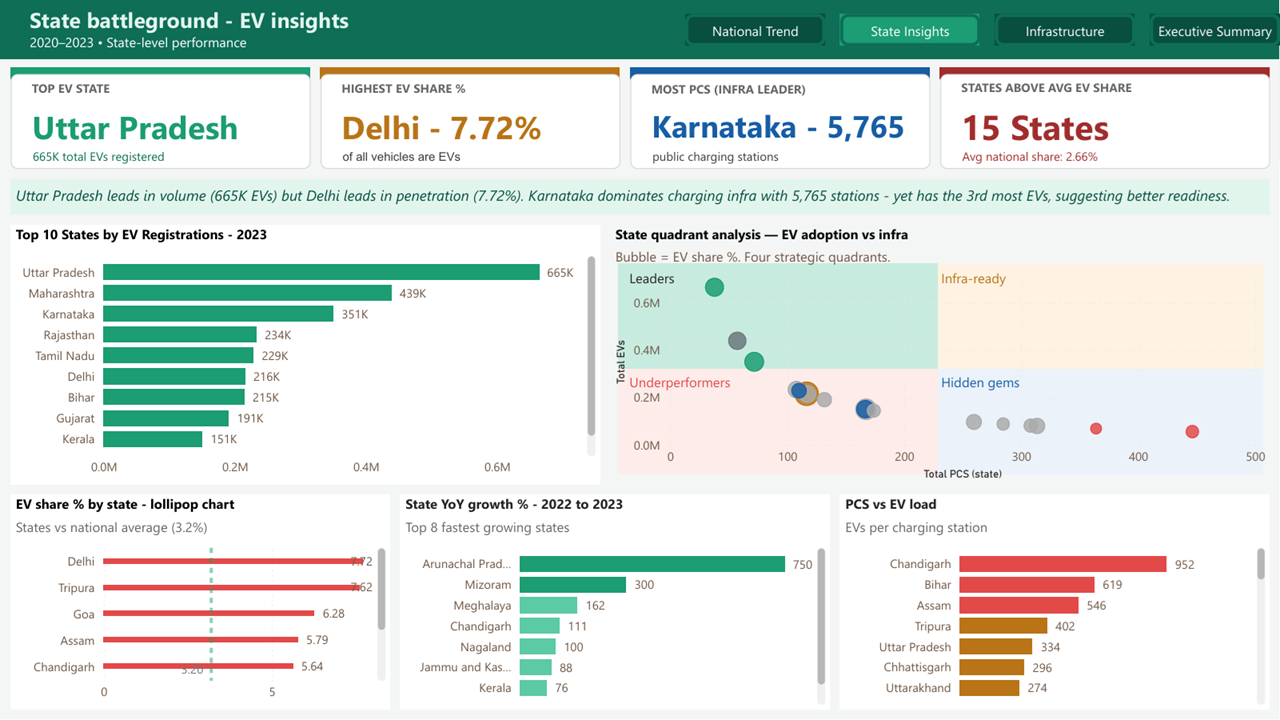

What the dashboard file says about the page in this screenshot:
{"tool":"powerbi","page":{"name":"State Insights","canvas":[1280,720],"ordinal":1},"visuals":[{"type":"shape","box":[0,0,1280,60],"z":0},{"type":"textbox","box":[24,0,880,80],"z":1000},{"type":"actionButton","box":[685,14,140,32],"z":2000},{"type":"actionButton","box":[840,14,140,32],"z":3000},{"type":"actionButton","box":[995,14,140,32],"z":4000},{"type":"actionButton","box":[1150,14,130,32],"z":5000},{"type":"shape","box":[10,68,300,12],"z":6000},{"type":"cardVisual","fields":{"Data":["EV Share %.Top EV State"]},"box":[10,74,300,95],"z":7000},{"type":"textbox","box":[24,144,304,80],"z":8000},{"type":"shape","box":[320,68,300,12],"z":9000},{"type":"cardVisual","fields":{"Data":["EV Share %.Highest EV Share %"]},"box":[320,74,300,95],"z":10000},{"type":"textbox","box":[334,144,304,80],"z":11000},{"type":"shape","box":[630,68,300,12],"z":12000},{"type":"cardVisual","fields":{"Data":["State-wise EVPCS.Most PCS State"]},"box":[630,74,300,95],"z":13000},{"type":"textbox","box":[644,144,304,80],"z":14000},{"type":"shape","box":[940,68,330,12],"z":15000},{"type":"cardVisual","fields":{"Data":["EV Share %.States Above Avg EV Share"]},"box":[940,74,330,95],"z":16000},{"type":"textbox","box":[954,144,326,80],"z":17000},{"type":"textbox","box":[10,180,1260,35],"z":18000},{"type":"clusteredBarChart","title":"Top 10 States by EV Registrations  - 2023","fields":{"Category":["EV Share %.State"],"Y":["Sum(EV Share %.Total_EV)"]},"box":[10,225,590,260],"z":19000},{"type":"shape","box":[938,369,325,105],"z":20000},{"type":"shape","box":[618,369,320,105],"z":21000},{"type":"shape","box":[938,264,325,105],"z":22000},{"type":"shape","box":[618,264,320,105],"z":23000},{"type":"scatterChart","title":"State quadrant analysis — EV adoption vs infra","fields":{"Y":["Sum(EV Share %.Total_EV)"],"Series":["EV Share %.State"],"Size":["Sum(EV Share %.EV_Share_Percent)"],"X":["EV Share %.PCS per EV Ratio"]},"box":[610,225,660,260],"z":24000},{"type":"textbox","box":[624,264,224,120],"z":25000},{"type":"textbox","box":[936,264,160,96],"z":26000},{"type":"textbox","box":[624,368,160,64],"z":27000},{"type":"textbox","box":[936,368,152,56],"z":28000},{"type":"clusteredBarChart","title":"EV share % by state - lollipop chart","fields":{"Category":["EV Share %.State"],"Y":["Sum(EV Share %.EV_Share_Percent)"]},"box":[10,495,380,215],"z":29000},{"type":"clusteredBarChart","title":"State YoY growth % - 2022 to 2023","fields":{"Category":["State_Dim.State"],"Y":["State-wise EV Registrations.State YoY Growth %"]},"box":[400,495,430,215],"z":30000},{"type":"clusteredBarChart","title":"PCS vs EV load","fields":{"Category":["State_Dim.State"],"Y":["EV Share %.EV Load per PCS"]},"box":[840,495,430,215],"z":31000}]}

Visuals, with their boxes in screenshot pixels (x1, y1, x2, y2), scaled from the page's 1280x720 canvas onto the 1280x720 screenshot:
shape: box(0, 0, 1279, 60)
textbox: box(24, 0, 904, 80)
actionButton: box(685, 14, 825, 46)
actionButton: box(840, 14, 980, 46)
actionButton: box(995, 14, 1135, 46)
actionButton: box(1150, 14, 1279, 46)
shape: box(10, 68, 310, 80)
cardVisual - EV Share %.Top EV State: box(10, 74, 310, 169)
textbox: box(24, 144, 328, 224)
shape: box(320, 68, 620, 80)
cardVisual - EV Share %.Highest EV Share %: box(320, 74, 620, 169)
textbox: box(334, 144, 638, 224)
shape: box(630, 68, 930, 80)
cardVisual - State-wise EVPCS.Most PCS State: box(630, 74, 930, 169)
textbox: box(644, 144, 948, 224)
shape: box(940, 68, 1270, 80)
cardVisual - EV Share %.States Above Avg EV Share: box(940, 74, 1270, 169)
textbox: box(954, 144, 1279, 224)
textbox: box(10, 180, 1270, 215)
"Top 10 States by EV Registrations  - 2023" clusteredBarChart: box(10, 225, 600, 485)
shape: box(938, 369, 1263, 474)
shape: box(618, 369, 938, 474)
shape: box(938, 264, 1263, 369)
shape: box(618, 264, 938, 369)
"State quadrant analysis — EV adoption vs infra" scatterChart: box(610, 225, 1270, 485)
textbox: box(624, 264, 848, 384)
textbox: box(936, 264, 1096, 360)
textbox: box(624, 368, 784, 432)
textbox: box(936, 368, 1088, 424)
"EV share % by state - lollipop chart" clusteredBarChart: box(10, 495, 390, 710)
"State YoY growth % - 2022 to 2023" clusteredBarChart: box(400, 495, 830, 710)
"PCS vs EV load" clusteredBarChart: box(840, 495, 1270, 710)
